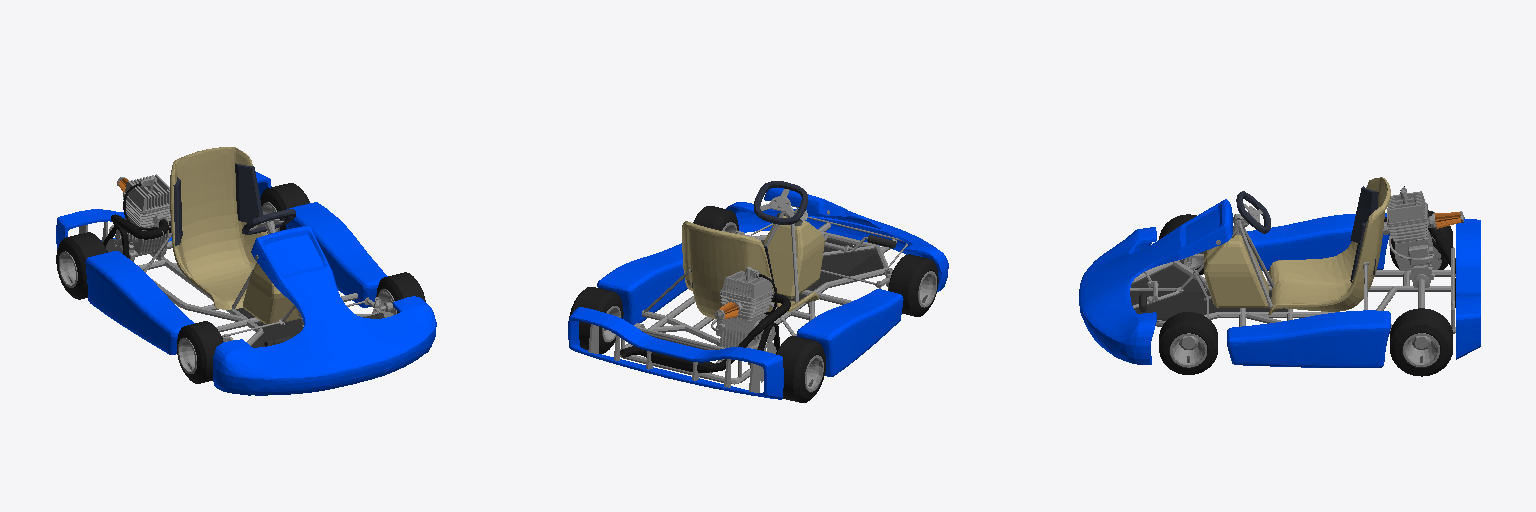
The model's file is Kart7800v.obj.
The picture shows the model from 3 angles: view 1: azimuth 30°, elevation 25°; view 2: azimuth 150°, elevation 25°; view 3: azimuth 270°, elevation 25°; orthographic projection.
Bounding box in the file's own units: 1653 × 887 × 2448.